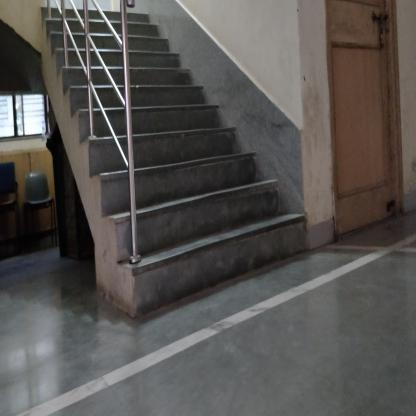stairs: (143, 127, 250, 329)
